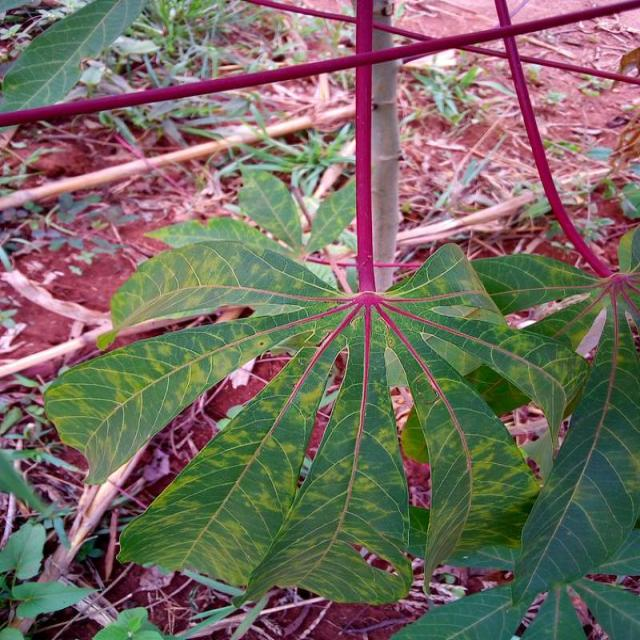cassava leaf: (43, 218, 599, 609)
